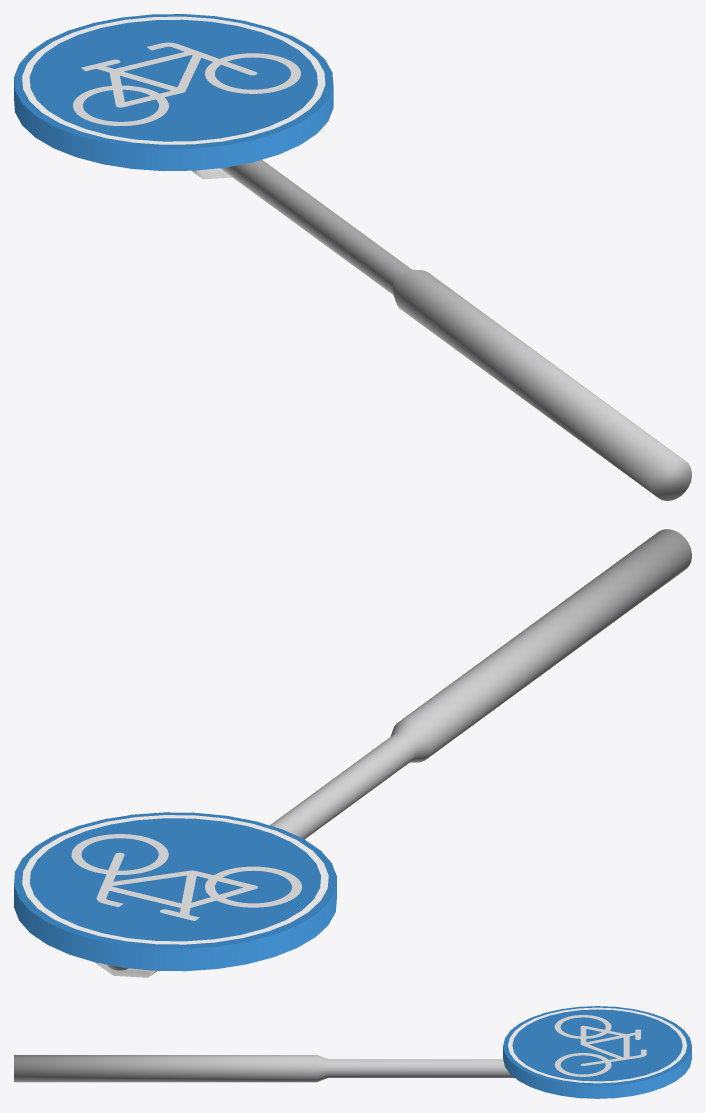
The model's file is Blue bike traffic sign.fbx.
3 renders of one model, top to bottom at view 1: azimuth 30°, elevation 25°; view 2: azimuth 150°, elevation 25°; view 3: azimuth 270°, elevation 25°, orthographic. The views are drawn at different scales.
Parts seen in each view (by area): view 1: bike sign.001; view 2: bike sign.001; view 3: bike sign.001.
Boxes of the visible parts, bbox=[...] form: bike sign.001: bbox=[14, 14, 691, 500]; bike sign.001: bbox=[14, 529, 691, 977]; bike sign.001: bbox=[14, 1006, 691, 1098].
Bounding box in the file's own units: 200 × 40.23 × 718.
